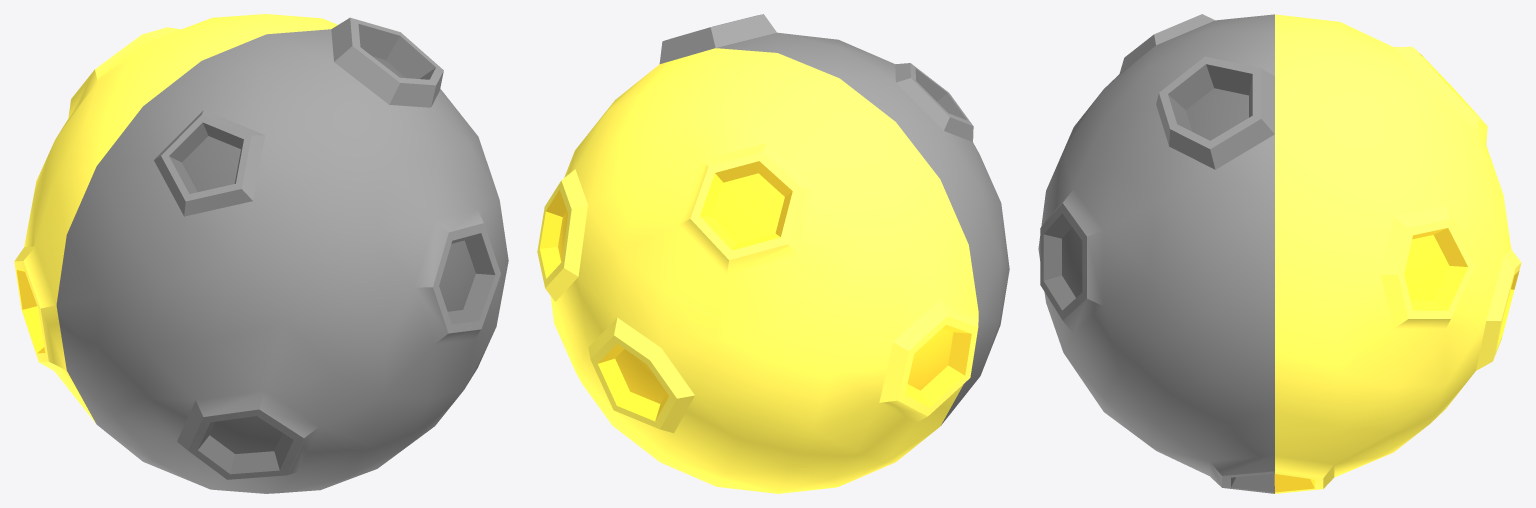
Rendered from new_moon.gltf.
3 renders of one model, left to right at view 1: azimuth 30°, elevation 25°; view 2: azimuth 150°, elevation 25°; view 3: azimuth 270°, elevation 25°, orthographic. The views are drawn at different scales.
Visible parts, largest first — view 1: Icosphere; view 2: Icosphere; view 3: Icosphere.
Part boxes in pixels (box(x1,y1,x2,y2)): Icosphere: box(14, 14, 508, 493); Icosphere: box(537, 14, 1009, 493); Icosphere: box(1038, 14, 1521, 493).
Bounding box in the file's own units: 2.04 × 2.02 × 2.04.
Materials: 1 (1 with a texture image).
